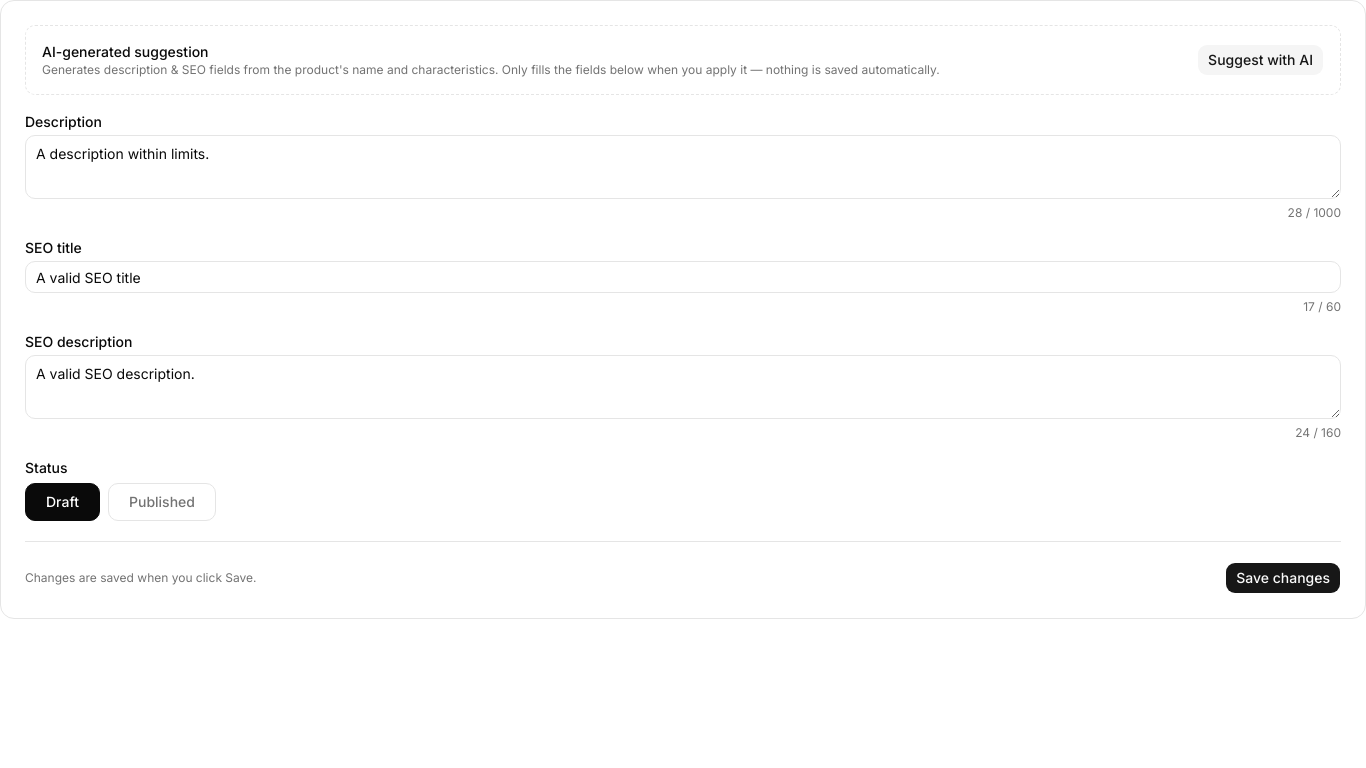
Test: ProductEditorForm save flow › shows the server's validation issues and keeps the entered values on a rejected save
Replace the text in the field labelled "SEO title" with "A different but still valid title": point(683, 277) x1=25 y1=261 x2=1341 y2=293
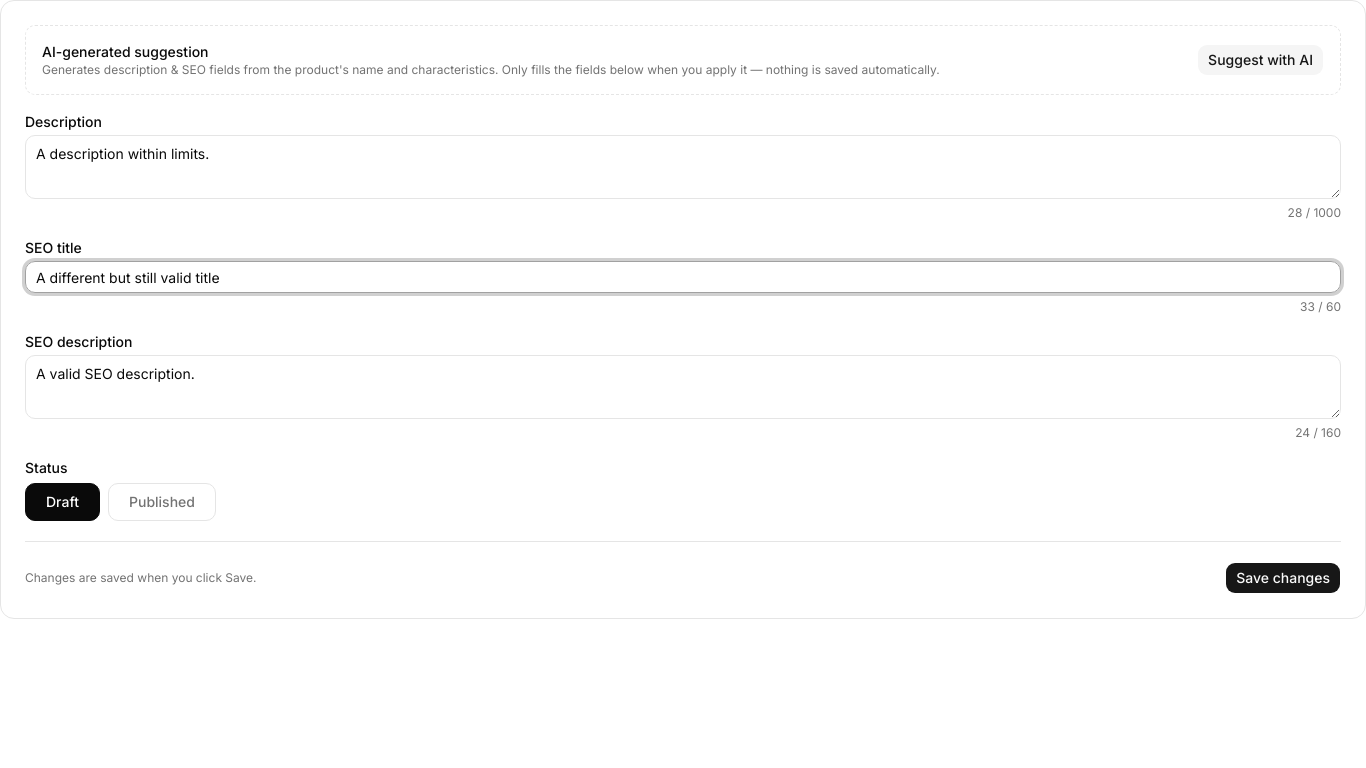
Click the button "Save changes": point(1283, 578) x1=1225 y1=562 x2=1341 y2=594
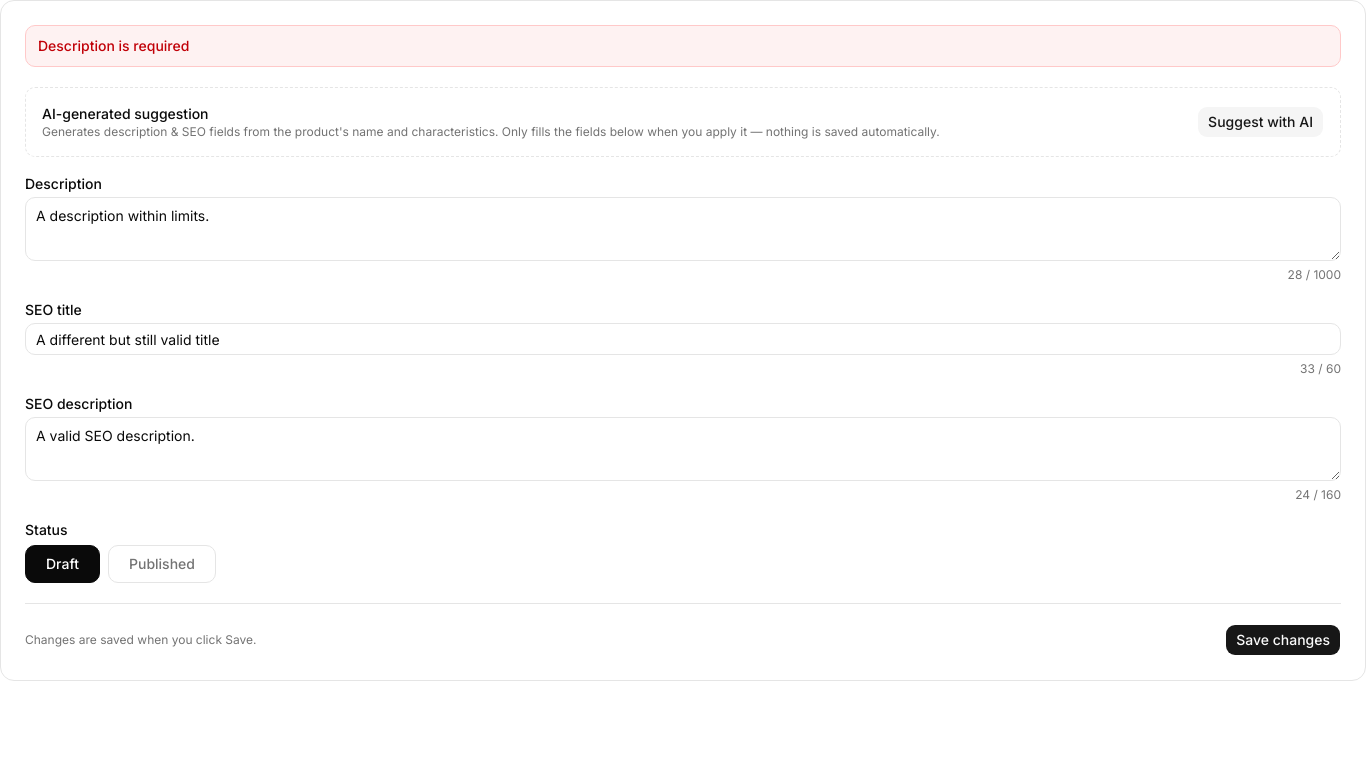
Now the text "Description is required" is shown, box x1=25 y1=25 x2=1341 y2=67
